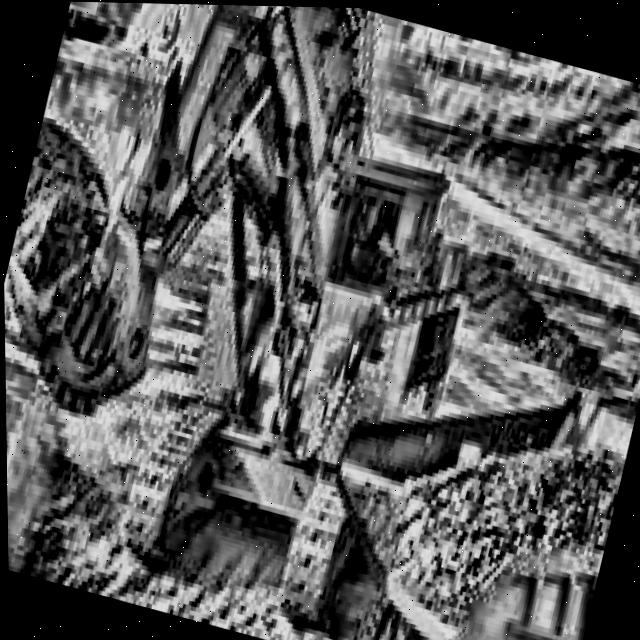dump_truck: (283, 242, 640, 640)
excavator: (0, 0, 510, 640)
